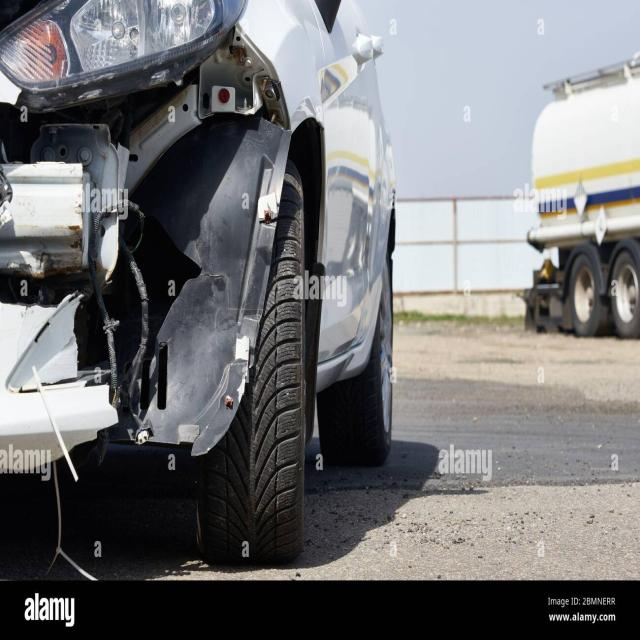scratch: (0, 0, 298, 474)
